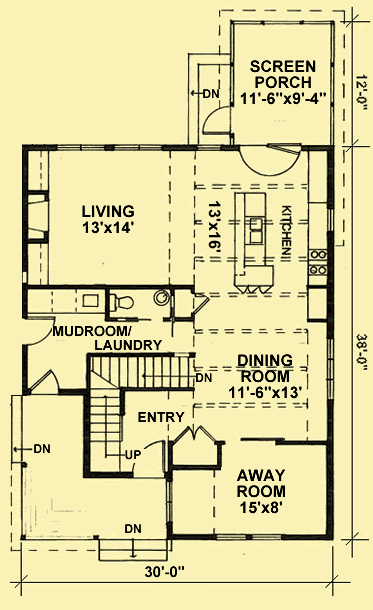entry area has staircase: (88, 350, 227, 478)
kitchen has a kitchen bar with cooking range and sink: (192, 147, 331, 326)
small bathroom has a small and large sink: (103, 285, 174, 324)
